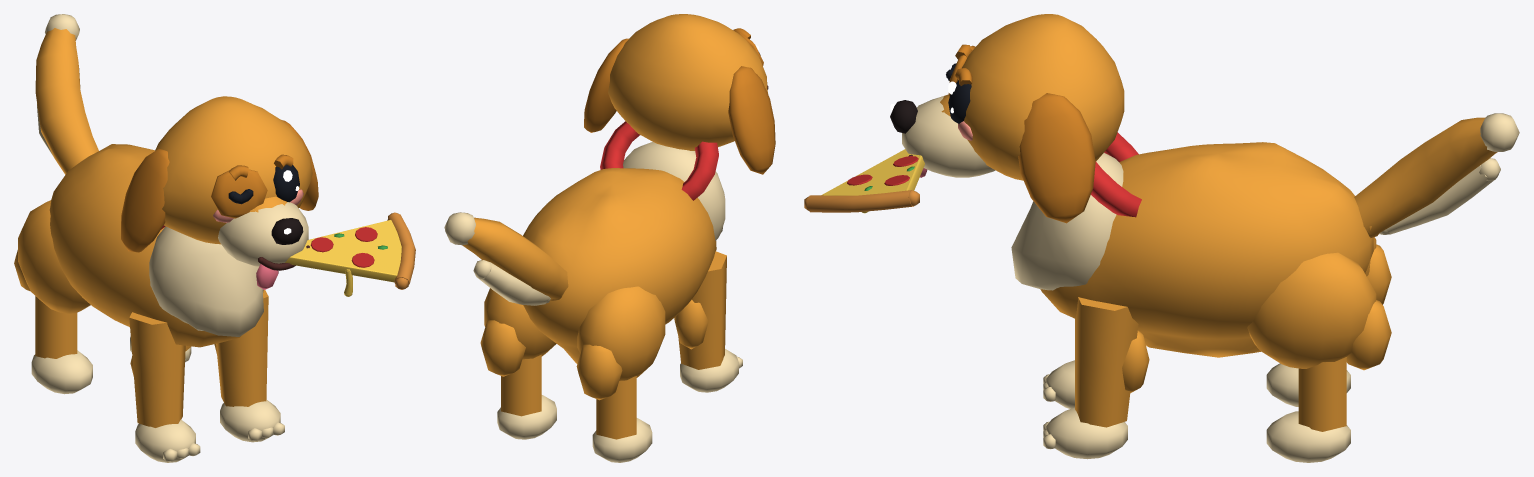
File: npc_lucky.glb
3 views of the same model, side by side, from view 1: azimuth 30°, elevation 25°; view 2: azimuth 150°, elevation 25°; view 3: azimuth 270°, elevation 25° (orthographic). The views are drawn at different scales.
Parts seen in each view (by area): view 1: Head, Body, LegL2, LegL, Tail, LegR; view 2: Body, Head, LegL2, LegR2, Tail, LegL; view 3: Body, Head, LegR2, Tail, LegR, LegL2, LegL.
Part boxes in pixels (x1,y1,x2,y2): Head: (121,96,415,296); Body: (49,144,263,351); LegL2: (14,200,92,394); LegL: (129,312,200,462); Tail: (35,14,98,174); LegR: (214,290,284,442); Body: (523,121,725,363); Head: (584,14,775,174); LegL2: (576,286,665,462); LegR2: (480,288,556,439); Tail: (444,212,568,305); LegL: (674,251,742,392); Body: (1011,132,1373,357); Head: (804,14,1124,223); LegR2: (1247,252,1391,462); Tail: (1354,113,1519,237); LegR: (1043,297,1149,459); LegL2: (1266,237,1391,406); LegL: (1043,360,1074,408).
Size of the model in its own units: 0.4035 by 0.6545 by 1.03.
